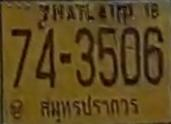0: (119, 26, 140, 85)
3: (74, 27, 94, 86)
4: (34, 27, 54, 87)
5: (98, 26, 118, 86)
6: (142, 26, 164, 84)
7: (10, 28, 31, 84)
SPK: (36, 93, 140, 122)
